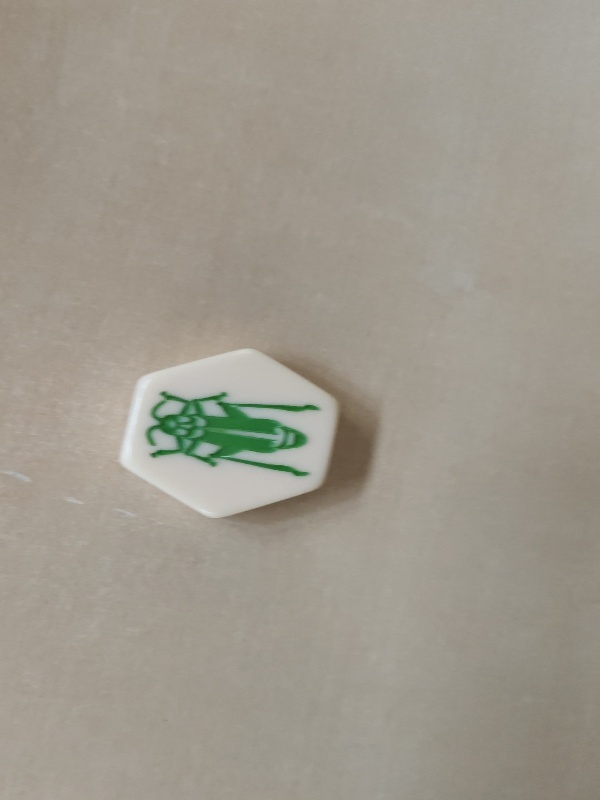white_grasshopper: (127, 352, 331, 533)
